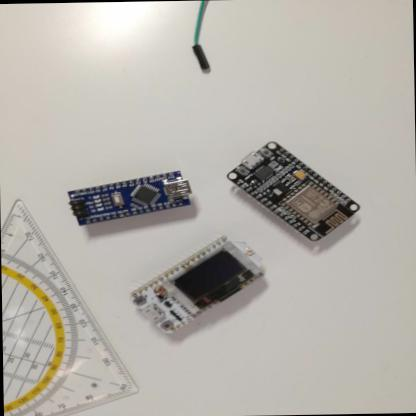Arduino_Nano: (64, 168, 196, 229)
ESP8266: (224, 138, 364, 244)
Heltec_ESP32_Lora: (127, 235, 267, 334)
